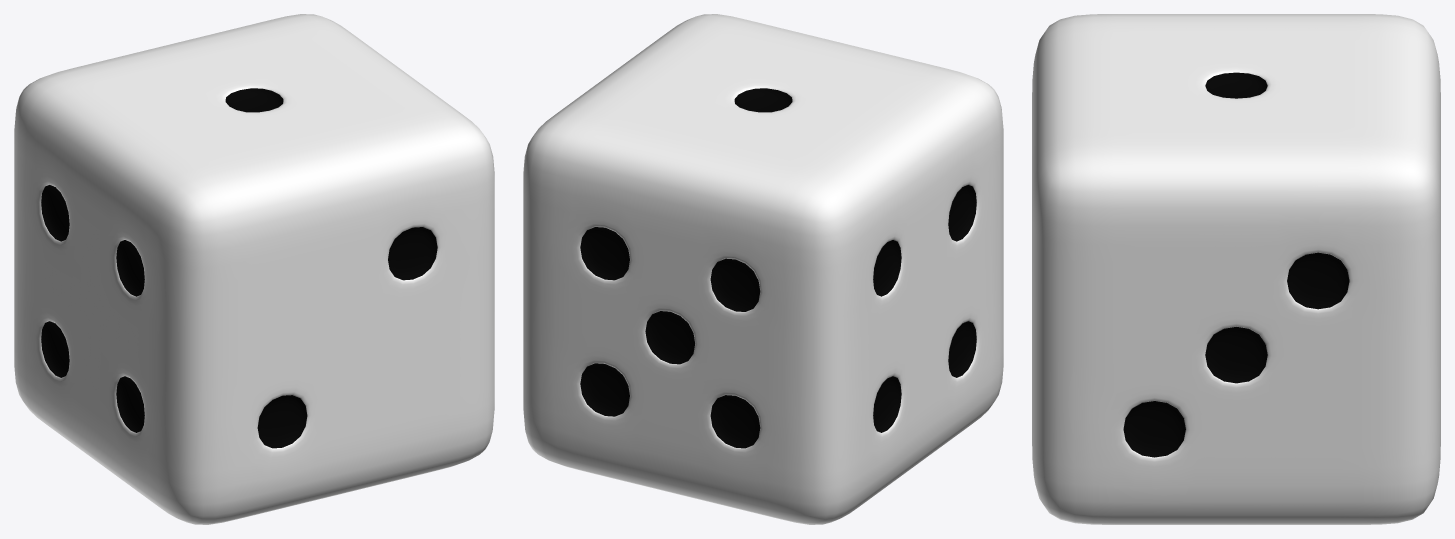
Rendered from die_white.glb.
3 renders of one model, left to right at view 1: azimuth 30°, elevation 25°; view 2: azimuth 150°, elevation 25°; view 3: azimuth 270°, elevation 25°, orthographic. The views are drawn at different scales.
Visible parts, largest first — view 1: DieWhite; view 2: DieWhite; view 3: DieWhite.
Part boxes in pixels (bbox=[...]): DieWhite: bbox=[14, 14, 494, 524]; DieWhite: bbox=[523, 14, 1003, 524]; DieWhite: bbox=[1032, 14, 1440, 524].
Size of the model in its own units: 1 by 1 by 1.
1 material, 1 textured.
